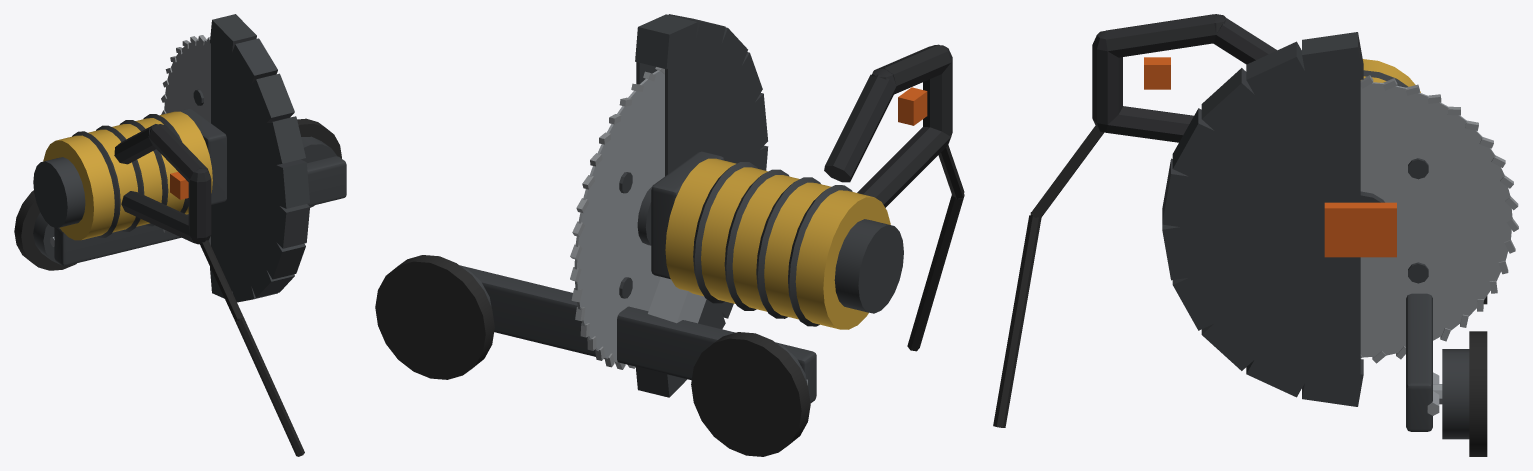
The model's file is prop_saw_device.glb.
The picture shows the model from 3 angles, left to right: view 1: azimuth 30°, elevation 25°; view 2: azimuth 150°, elevation 25°; view 3: azimuth 270°, elevation 25°; orthographic projection. The views are drawn at different scales.
Parts seen in each view (by area): view 1: Body, Bit; view 2: Body, Bit; view 3: Body, Bit.
Part boxes in pixels (<box>): Body: <box>14,14,346,456</box>; Bit: <box>161,35,210,245</box>; Body: <box>375,14,964,456</box>; Bit: <box>570,67,664,369</box>; Body: <box>993,14,1487,456</box>; Bit: <box>1360,75,1518,363</box>.
Bounding box in the file's own units: 0.56 × 0.5224 × 0.5818.
